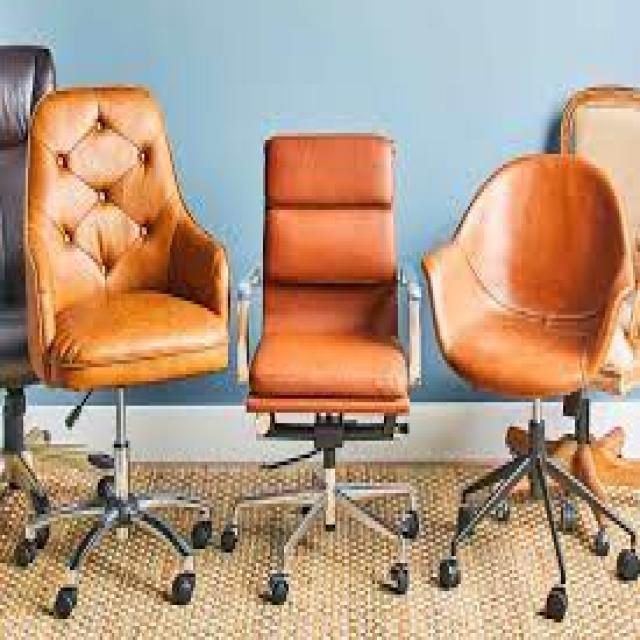chair: (0, 53, 233, 636), (388, 126, 640, 640), (214, 92, 427, 638), (508, 62, 640, 416), (0, 14, 82, 561)
